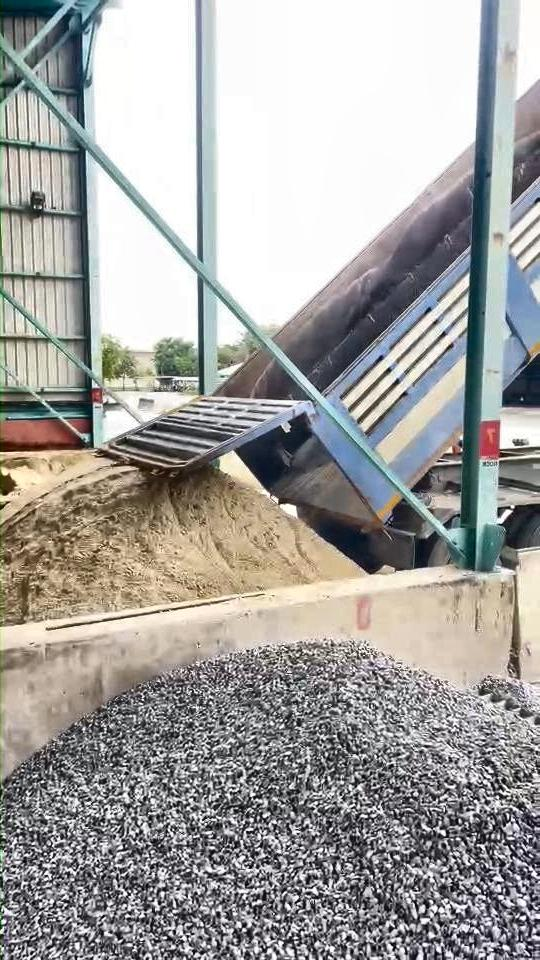gravel: (4, 642, 540, 959), (480, 677, 540, 723)
sand: (3, 465, 364, 623), (1, 449, 102, 501), (221, 453, 260, 488)
